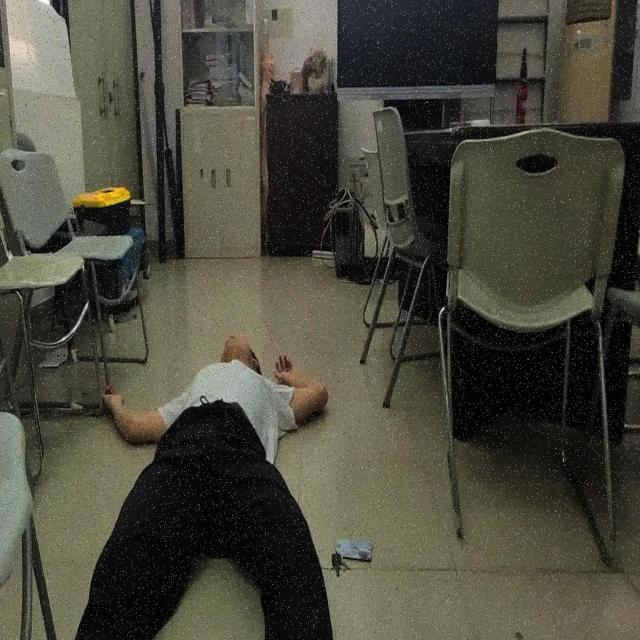fall: (75, 334, 332, 639)
